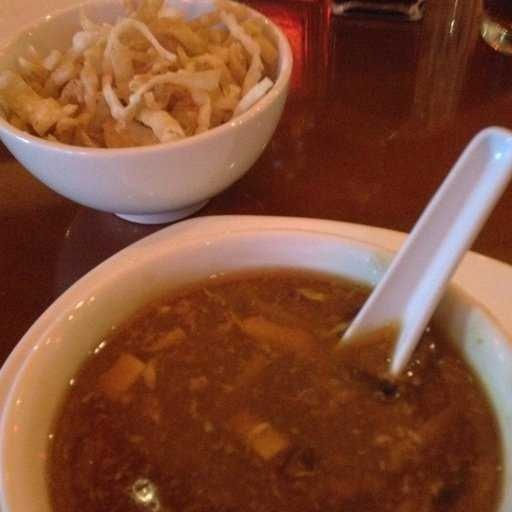soup: (7, 218, 512, 506)
